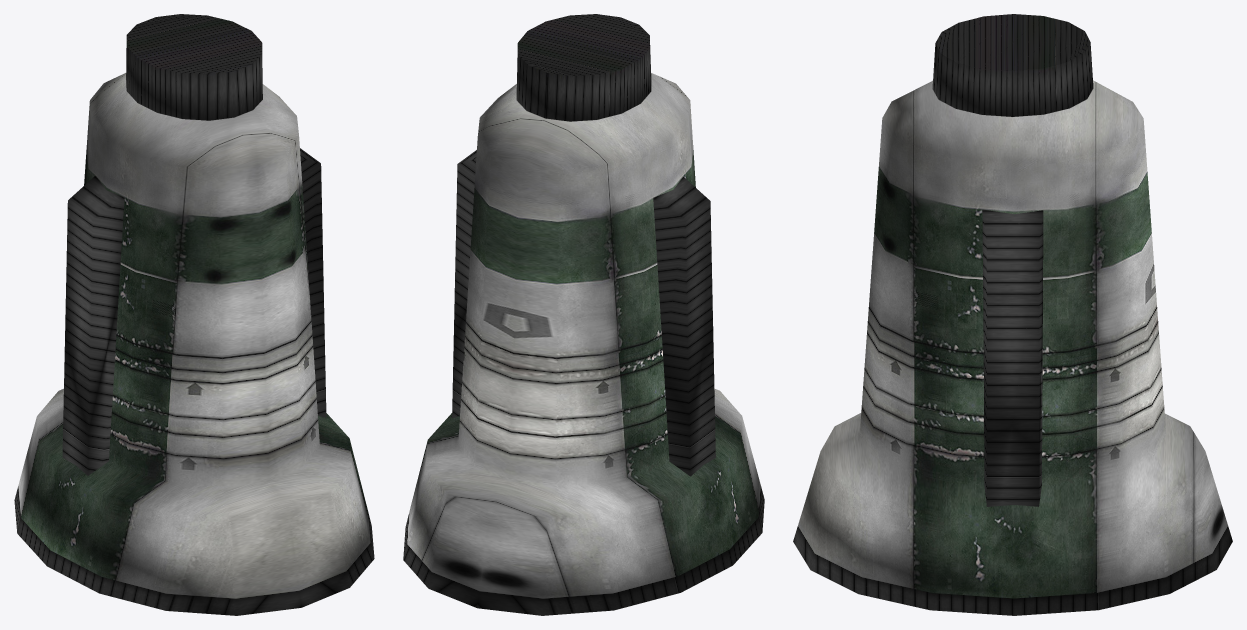
File: tower.fbx
3 views of the same model, side by side, from view 1: azimuth 30°, elevation 25°; view 2: azimuth 150°, elevation 25°; view 3: azimuth 270°, elevation 25° (orthographic). The views are drawn at different scales.
Visible parts, largest first — view 1: tower; view 2: tower; view 3: tower.
Boxes of the visible parts, x1,y1,x2,y2 form: tower: (14, 14, 374, 615); tower: (403, 14, 764, 615); tower: (793, 14, 1232, 615).
Bounding box in the file's own units: 102 × 160 × 128.
